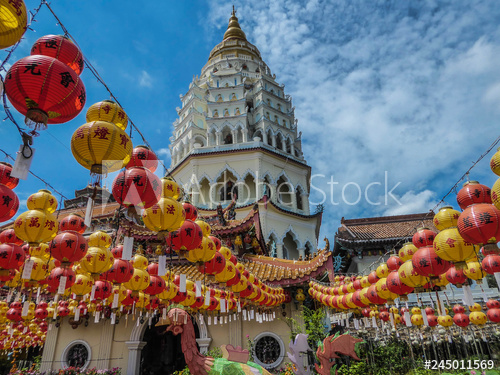Buddhist Temple: (159, 8, 320, 233)
